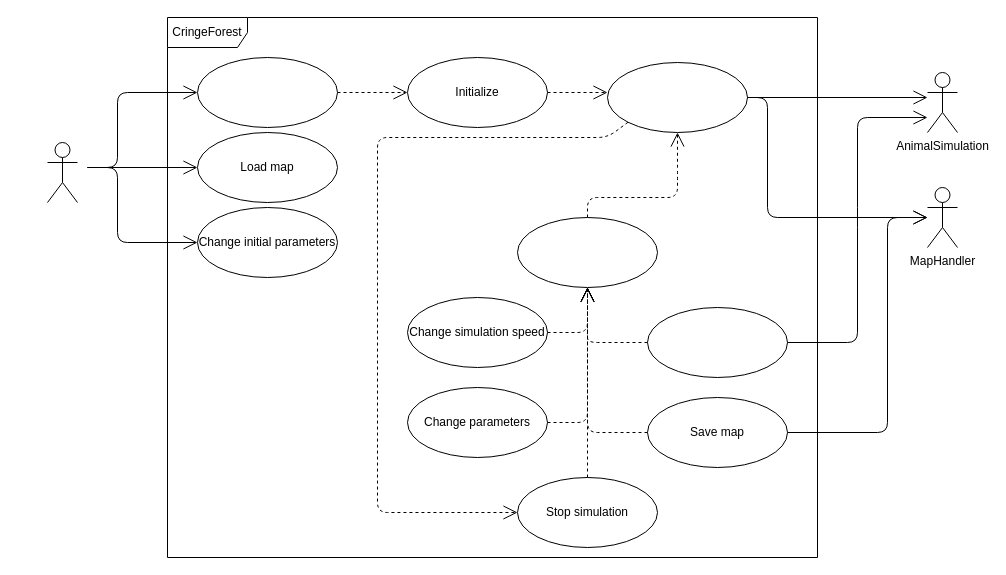
The diagram is 1006 pixels wide and 575 high, and some of its shapes have lost their labels. The shapes that lost their labels are listed below. From the top down, each one's centre as x and y in pixels, then its label:
At (267,92): "Start new simulation".
At (677,97): "Main loop".
At (62,172): "ConsoleInterface".
At (587,252): "Main menu".
At (717,342): "Show diagrams".
